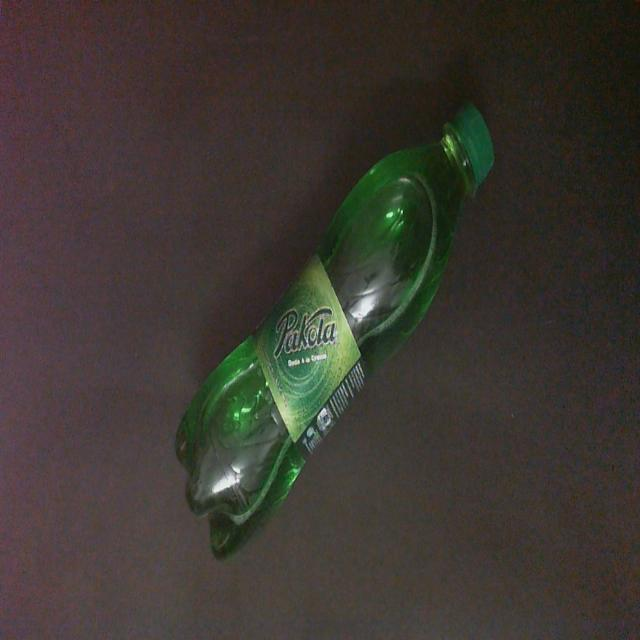non-defect: (172, 95, 497, 563)
